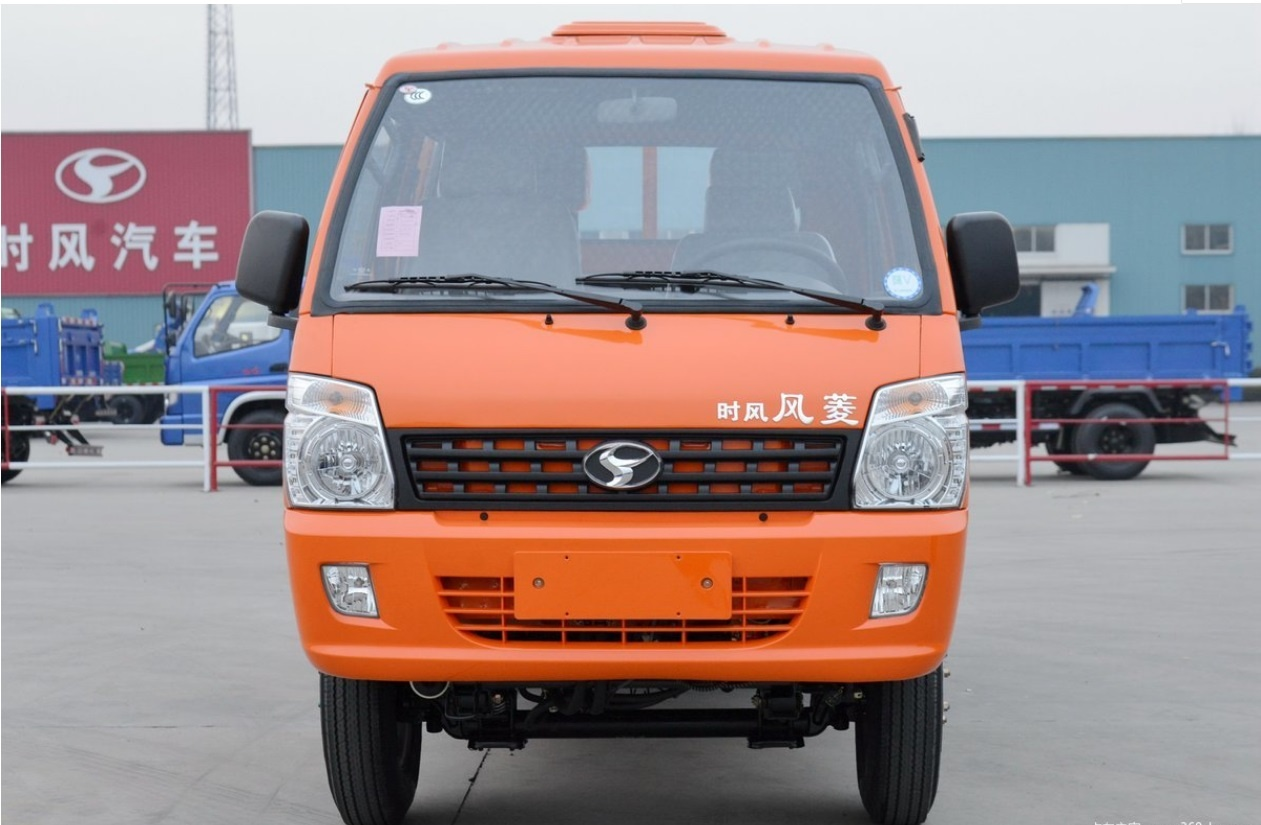truck: (279, 24, 980, 825)
